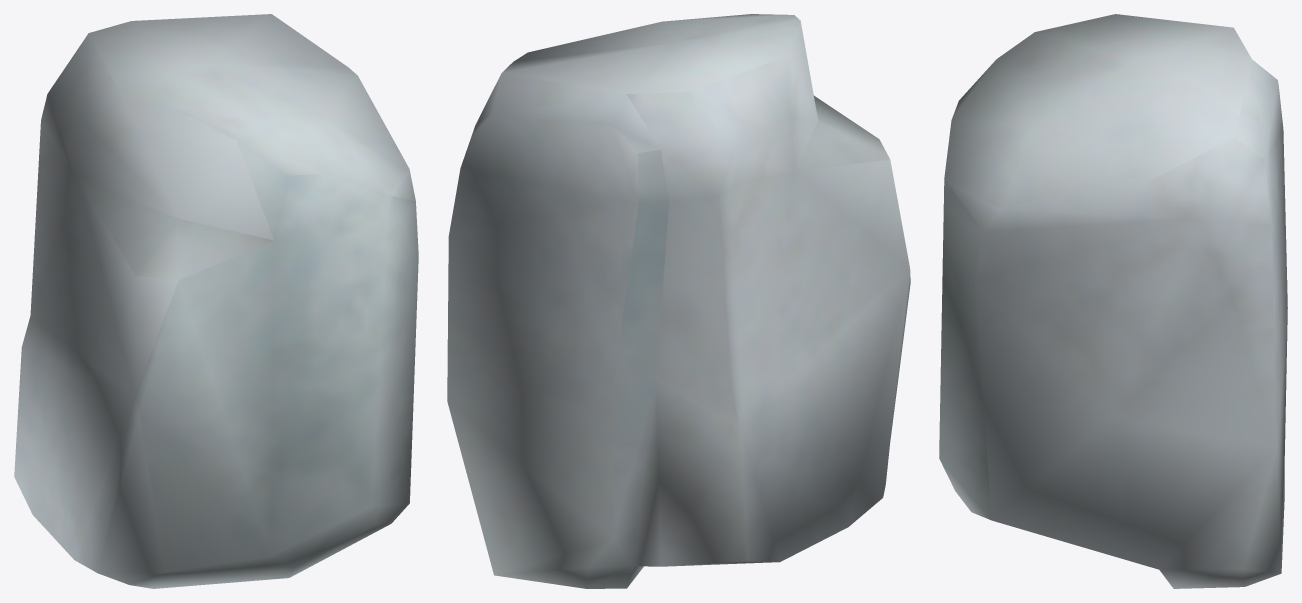
The model's file is P_RockSpire_Rock12.obj.
3 views of the same model, side by side, from view 1: azimuth 30°, elevation 25°; view 2: azimuth 150°, elevation 25°; view 3: azimuth 270°, elevation 25° (orthographic). The views are drawn at different scales.
Size of the model in its own units: 6.97 by 10.7 by 7.12.
